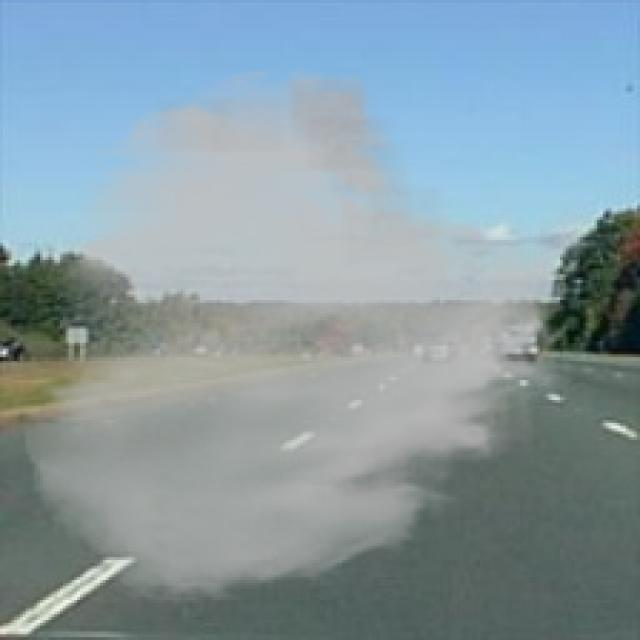smoke: (20, 63, 586, 608)
